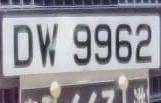2: (134, 18, 154, 72)
6: (113, 17, 135, 73)
9: (69, 18, 95, 74), (92, 18, 115, 74)
D: (9, 18, 38, 76)
W: (35, 18, 63, 76)
